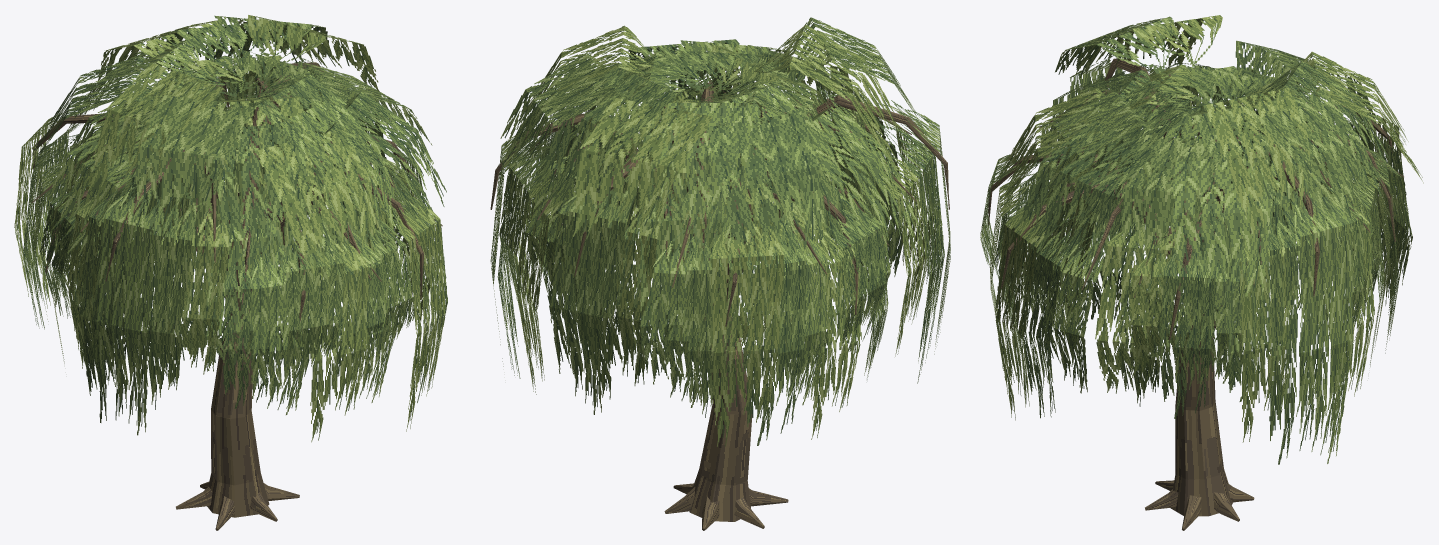
Rendered from weeping_willow.glb.
3 renders of one model, left to right at view 1: azimuth 30°, elevation 25°; view 2: azimuth 150°, elevation 25°; view 3: azimuth 270°, elevation 25°, orthographic. The views are drawn at different scales.
Parts seen in each view (by area): view 1: WeepingWillow; view 2: WeepingWillow; view 3: WeepingWillow.
Boxes of the visible parts, bbox=[...] form: WeepingWillow: bbox=[14, 15, 447, 530]; WeepingWillow: bbox=[490, 17, 950, 530]; WeepingWillow: bbox=[980, 15, 1423, 530].
Bounding box in the file's own units: 3.84 × 4.38 × 3.9.
2 materials, 2 textured.
